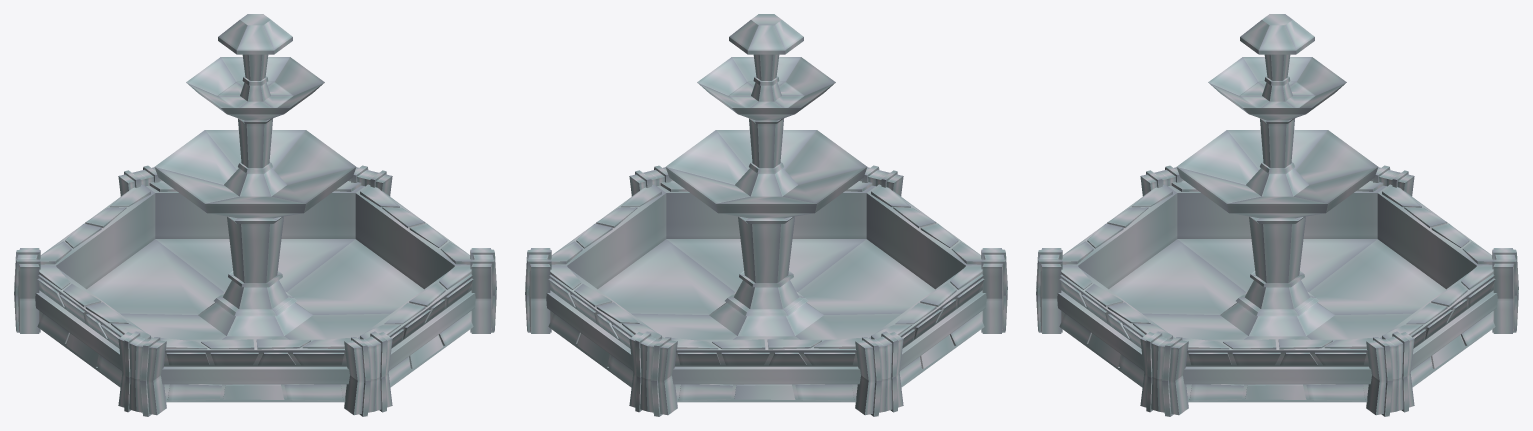
The model's file is fuente de agua-transformed.glb.
3 views of the same model, side by side, from view 1: azimuth 30°, elevation 25°; view 2: azimuth 150°, elevation 25°; view 3: azimuth 270°, elevation 25° (orthographic).
Visible parts, largest first — view 1: Cylinder; view 2: Cylinder; view 3: Cylinder.
Boxes of the visible parts, x1,y1,x2,y2 form: Cylinder: (14,14,496,416); Cylinder: (525,14,1007,416); Cylinder: (1036,14,1518,416).
Size of the model in its own units: 3.85 by 3.04 by 4.33.
1 material, 1 textured.
